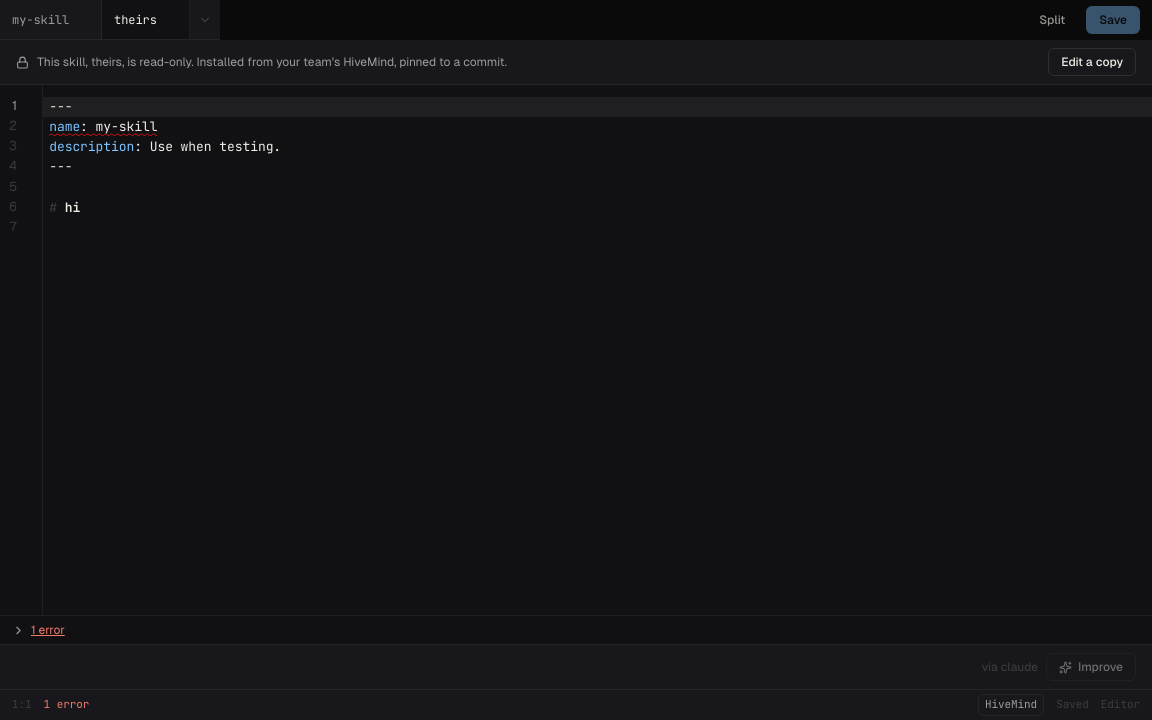
Test: Edit a copy › folds into the tab that is already open when the fork lands on its name
This screenshot has width=1152, height=720.
Click the button "Edit a copy".
click(1092, 62)  # box top-left (1048, 48), bottom-right (1136, 76)
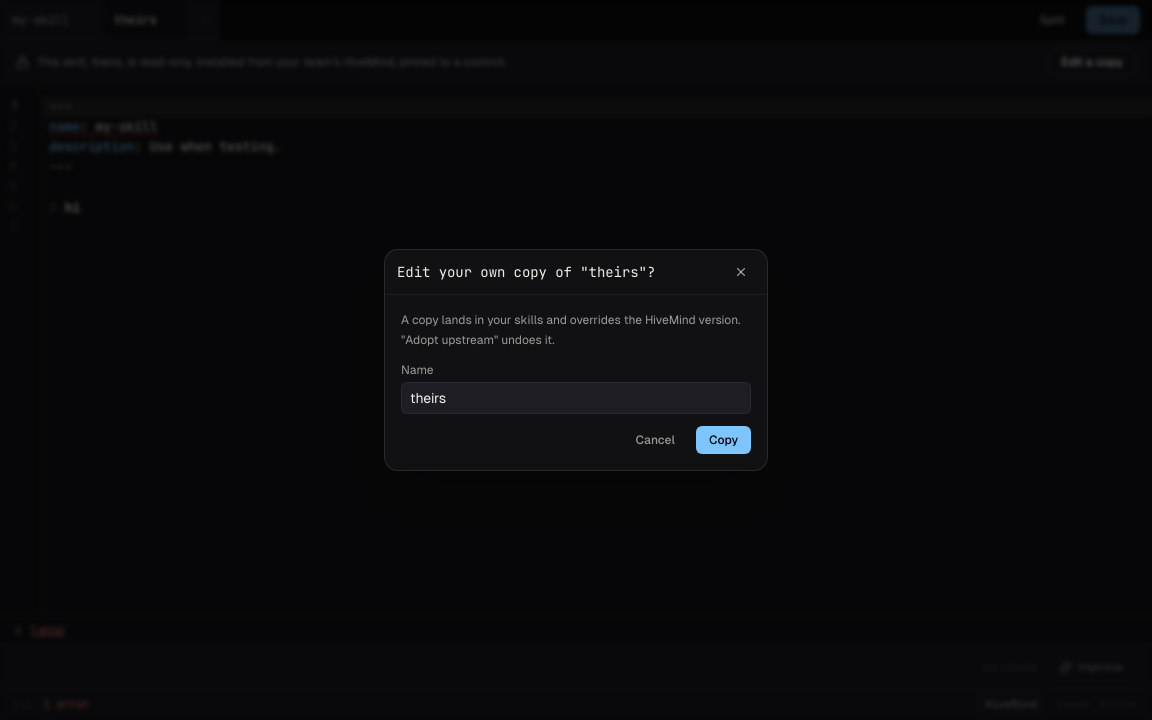
Replace the text in the field labelled "Name" with "my-skill" at [576, 398], box top-left (401, 382), bottom-right (751, 414)
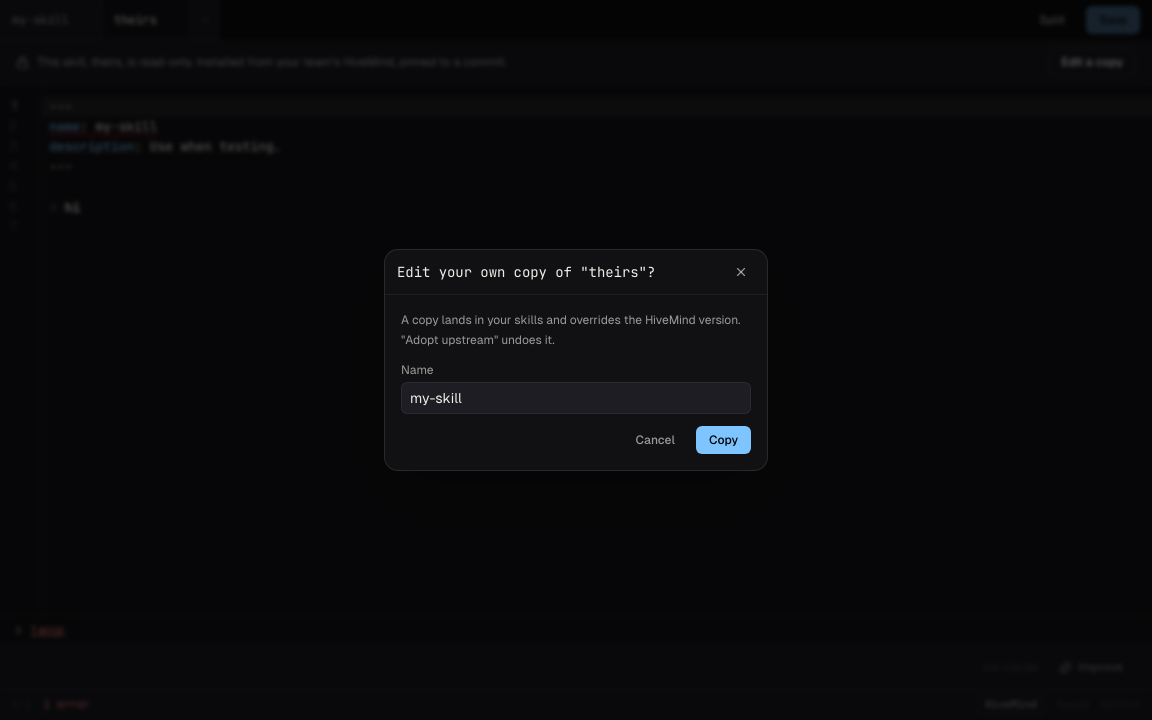
Click the button "Copy".
click(724, 440)  # box top-left (696, 426), bottom-right (751, 454)
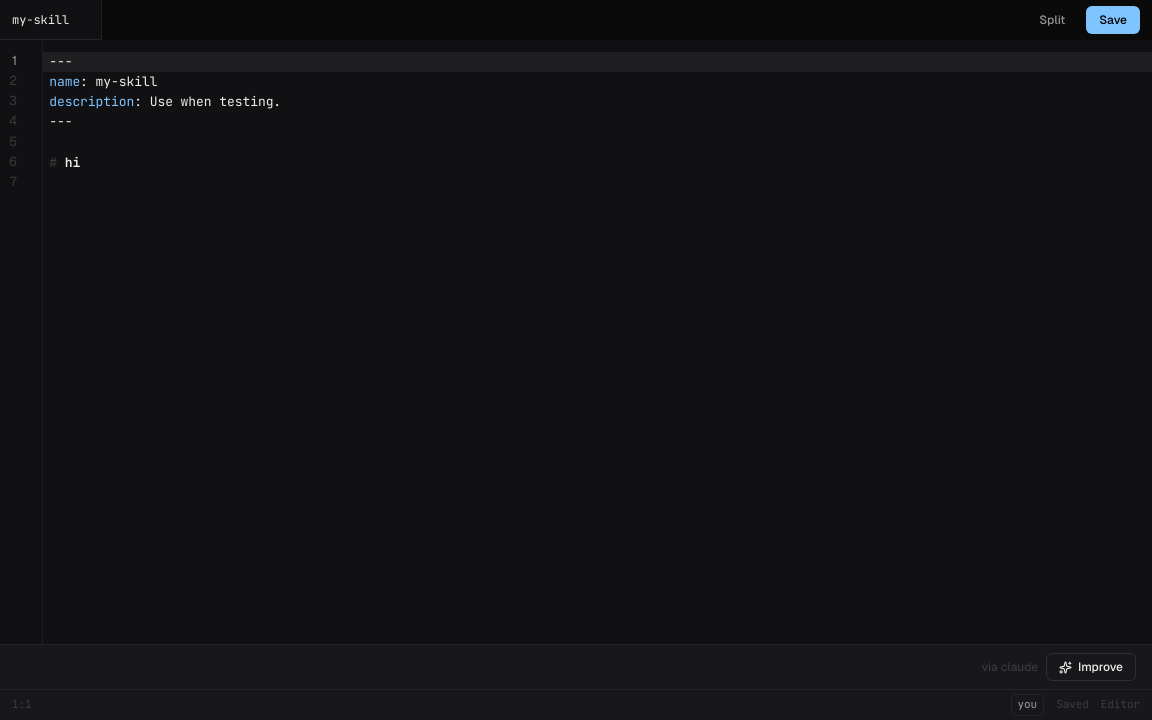
Result: the number of tabs named "(tab)" is 1 at top-left (0, 0), bottom-right (102, 39)
